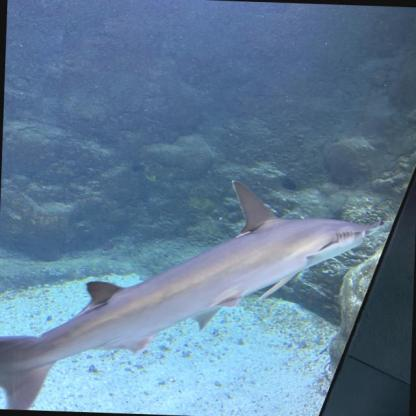shark: (0, 172, 385, 416)
